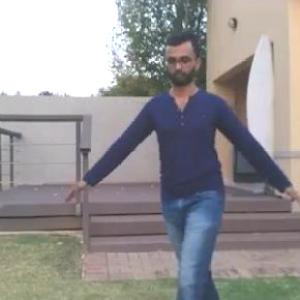land: (87, 39, 299, 299)
